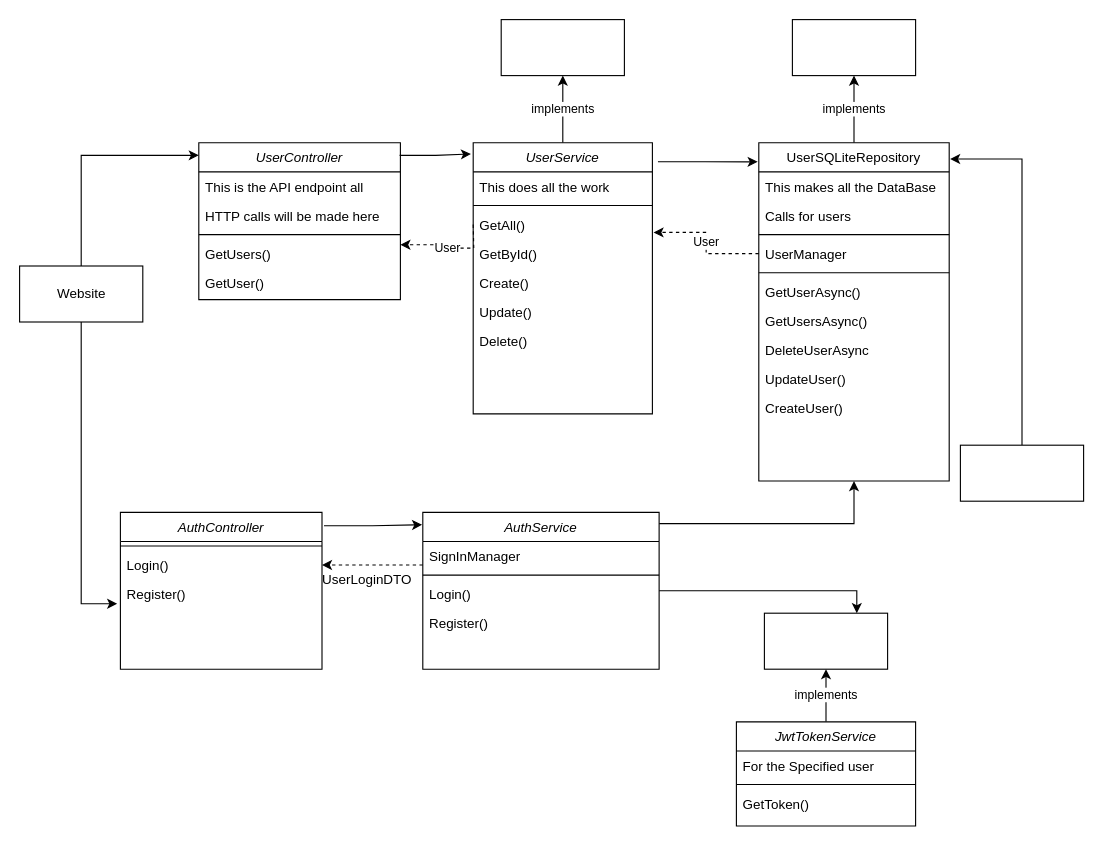
Image size: 1103x846. Some labels were removed from this diagram. Here are the shapes that lost their labels. From the top down, the centre of each, then its label:
At (x=562, y=47): "«interface» IUserService".
At (x=853, y=47): "«interface» IUserRepository".
At (x=1021, y=472): "DataBase".
At (x=825, y=640): "«interface» ITokenService".
